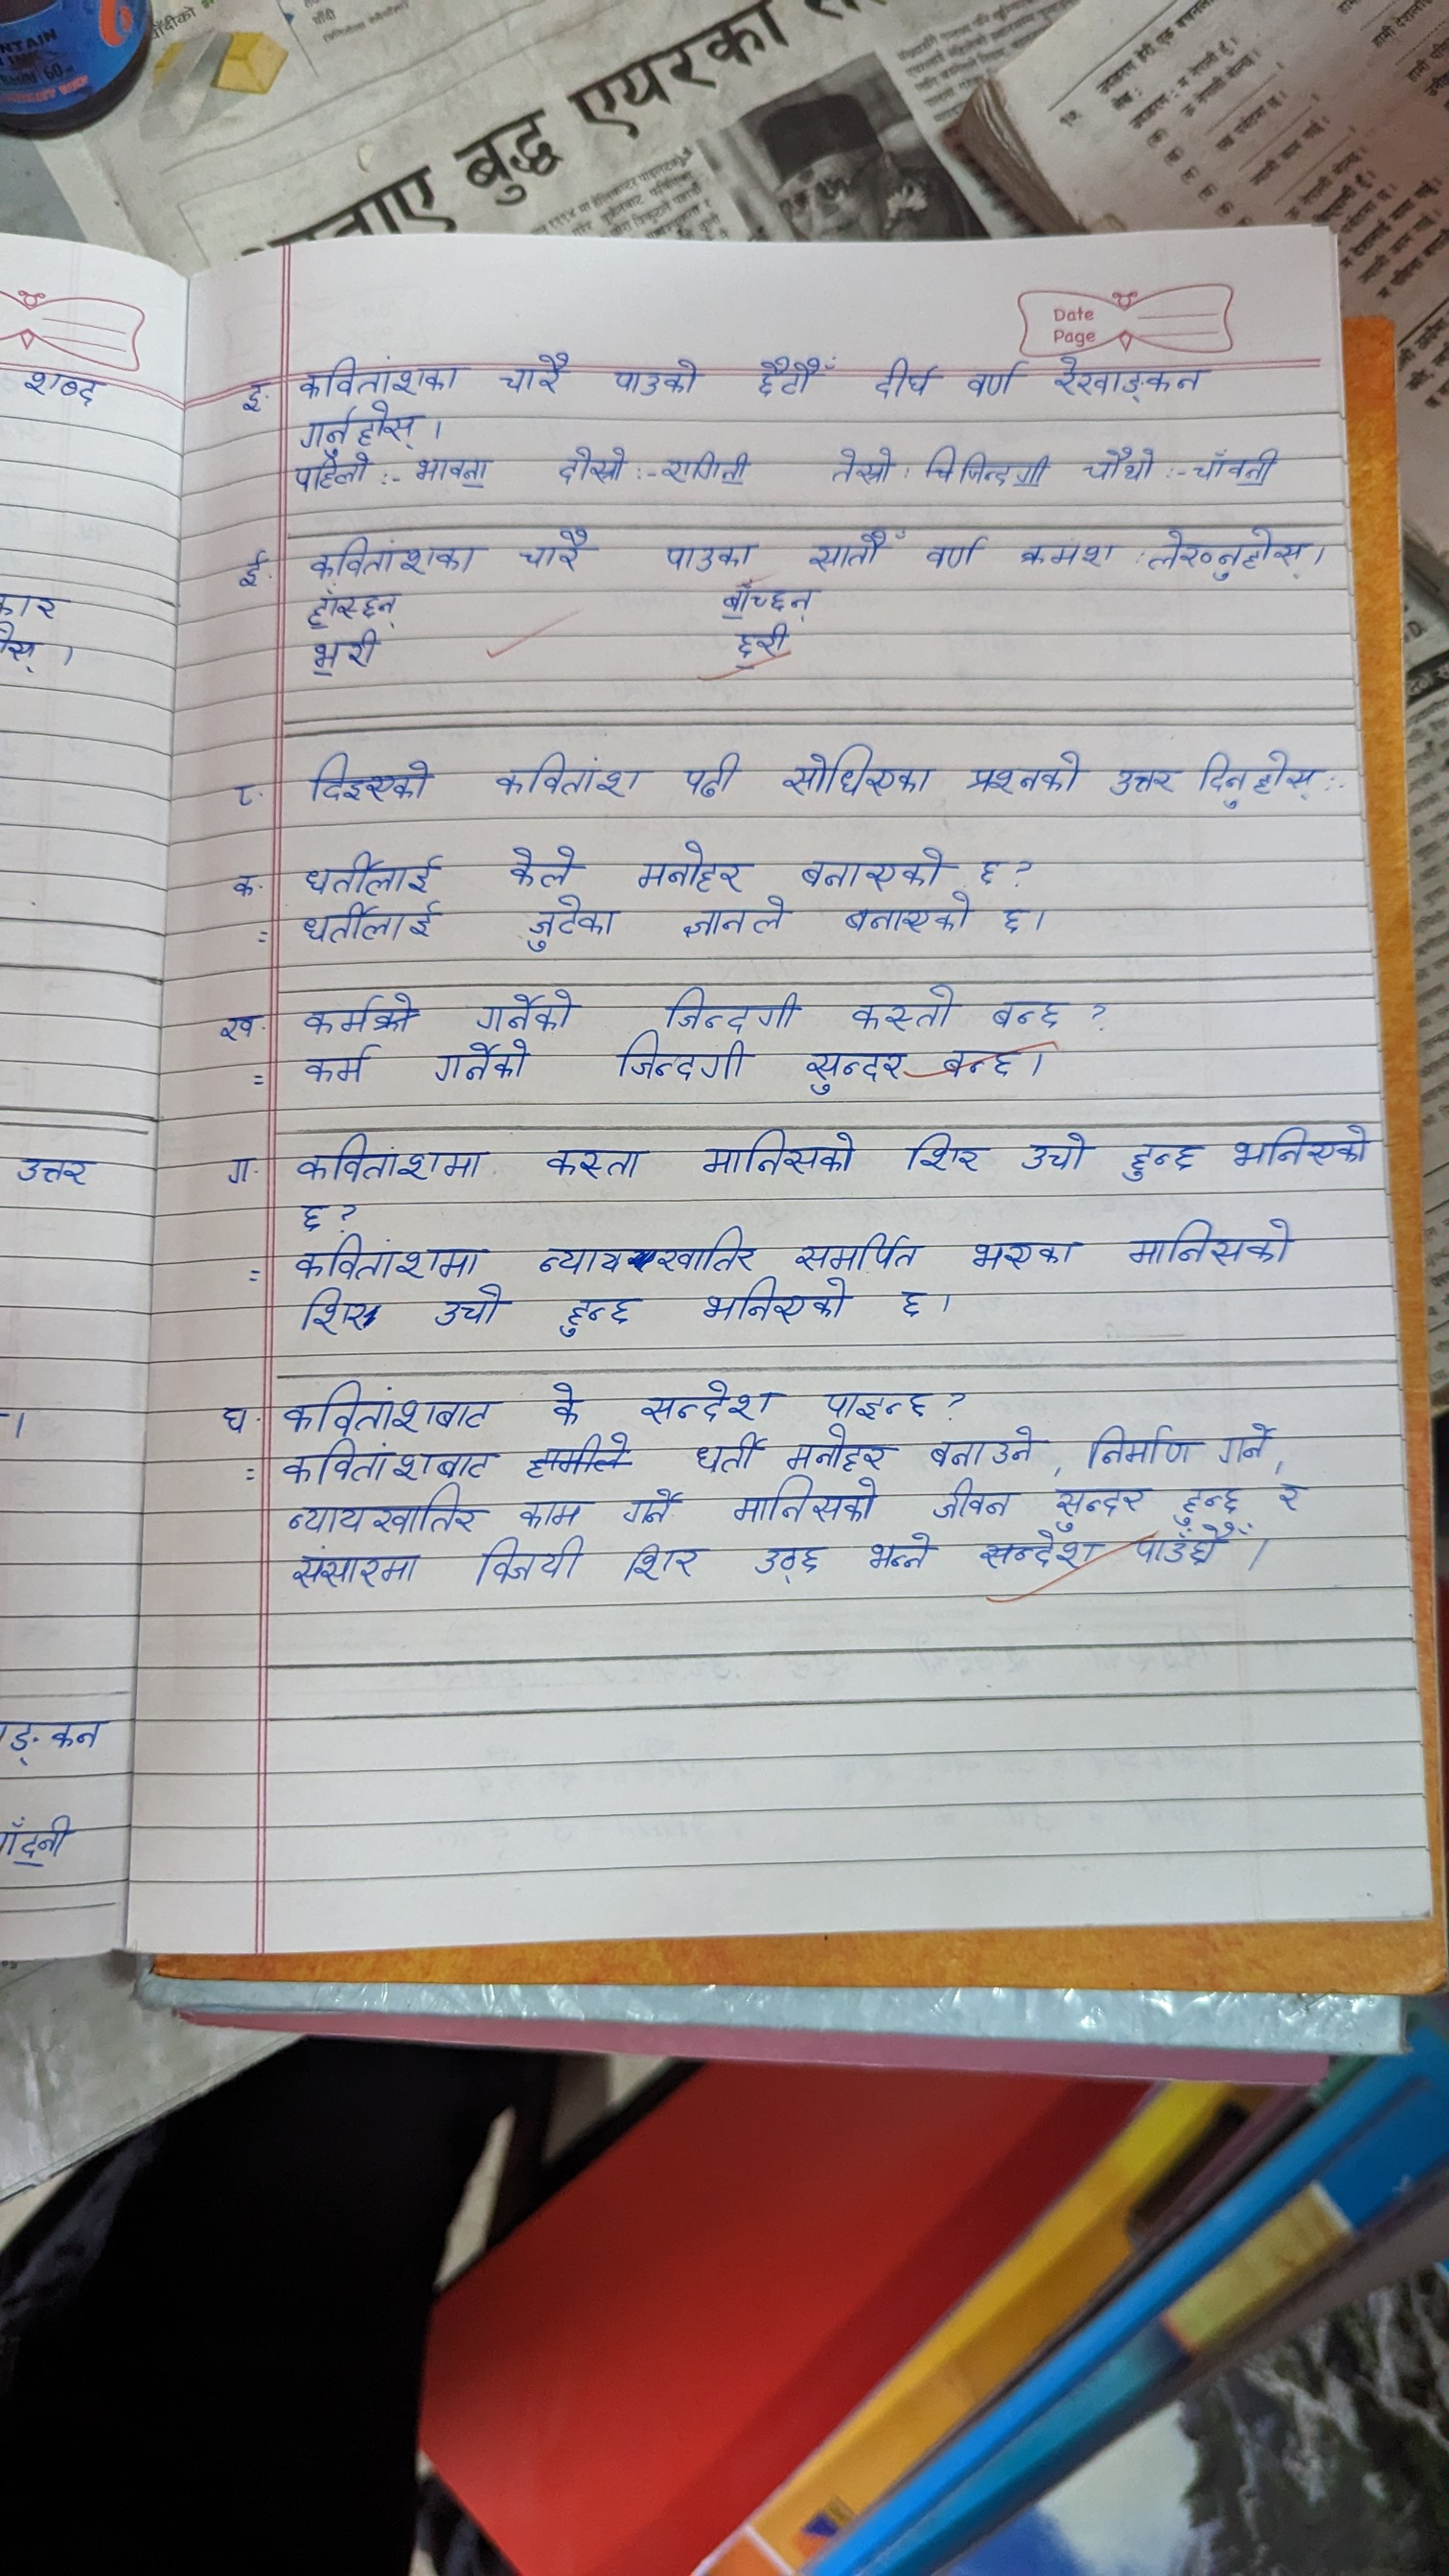text: (278, 1378, 501, 1440), (527, 1219, 761, 1277), (287, 1132, 492, 1185), (481, 745, 656, 803), (1138, 527, 1315, 584), (692, 1129, 867, 1185), (281, 1442, 501, 1486), (1115, 1217, 1304, 1267), (283, 1490, 481, 1536), (1200, 745, 1325, 817), (775, 741, 936, 796), (1047, 352, 1214, 405), (290, 902, 464, 952), (303, 531, 481, 579), (290, 1238, 488, 1281), (704, 1277, 853, 1330), (294, 350, 458, 398), (308, 748, 442, 807), (1224, 1123, 1373, 1175), (794, 840, 941, 892), (655, 984, 812, 1031), (607, 1033, 752, 1085), (633, 1376, 778, 1428), (787, 1217, 916, 1274), (628, 837, 750, 893), (791, 1039, 913, 1095), (961, 743, 1086, 798), (303, 849, 446, 897), (729, 1477, 878, 1523), (840, 893, 977, 941), (676, 897, 794, 952), (295, 402, 430, 449), (290, 1545, 425, 1592), (290, 994, 430, 1039), (980, 1534, 1100, 1585), (432, 1040, 556, 1090), (842, 980, 955, 1031), (492, 837, 594, 892), (807, 524, 911, 577), (476, 1537, 584, 1589), (954, 1231, 1088, 1272), (1016, 531, 1122, 582), (711, 580, 830, 625), (1079, 1419, 1189, 1467), (471, 984, 575, 1033), (520, 899, 617, 952), (541, 1134, 648, 1182), (1113, 1132, 1207, 1185), (655, 444, 763, 490), (816, 1378, 932, 1421), (927, 1424, 1039, 1468), (616, 1539, 711, 1591), (294, 586, 414, 626), (602, 354, 711, 398), (1191, 442, 1292, 490), (433, 1284, 520, 1339), (306, 633, 387, 692), (786, 1430, 892, 1474), (294, 1284, 375, 1341), (656, 527, 757, 571), (748, 354, 840, 402), (488, 341, 570, 395), (1134, 1530, 1240, 1571), (548, 1292, 642, 1338), (899, 1129, 987, 1177), (955, 448, 1054, 490), (547, 444, 640, 488), (1047, 1486, 1143, 1529), (672, 745, 741, 803), (511, 527, 600, 571), (288, 453, 375, 497), (1076, 444, 1159, 490), (984, 991, 1077, 1031), (821, 441, 901, 488), (1016, 1131, 1097, 1177), (295, 1042, 382, 1085), (870, 349, 939, 402), (924, 1483, 1021, 1520), (1214, 1408, 1274, 1467), (1109, 757, 1180, 807), (1166, 1483, 1260, 1520), (690, 1430, 768, 1474), (754, 1545, 832, 1589), (731, 626, 800, 676), (863, 1532, 936, 1578), (922, 531, 994, 575), (508, 1491, 589, 1530), (964, 352, 1024, 400), (410, 456, 490, 490), (211, 1398, 262, 1445), (938, 1049, 1019, 1077), (623, 1484, 679, 1525), (232, 543, 274, 596), (547, 1376, 589, 1428), (223, 770, 265, 814), (216, 1007, 258, 1051), (219, 1145, 258, 1192), (893, 1288, 936, 1329), (1272, 1479, 1313, 1522), (232, 377, 269, 418), (998, 904, 1037, 938), (294, 1205, 333, 1235), (230, 867, 262, 902), (977, 847, 1003, 890)
